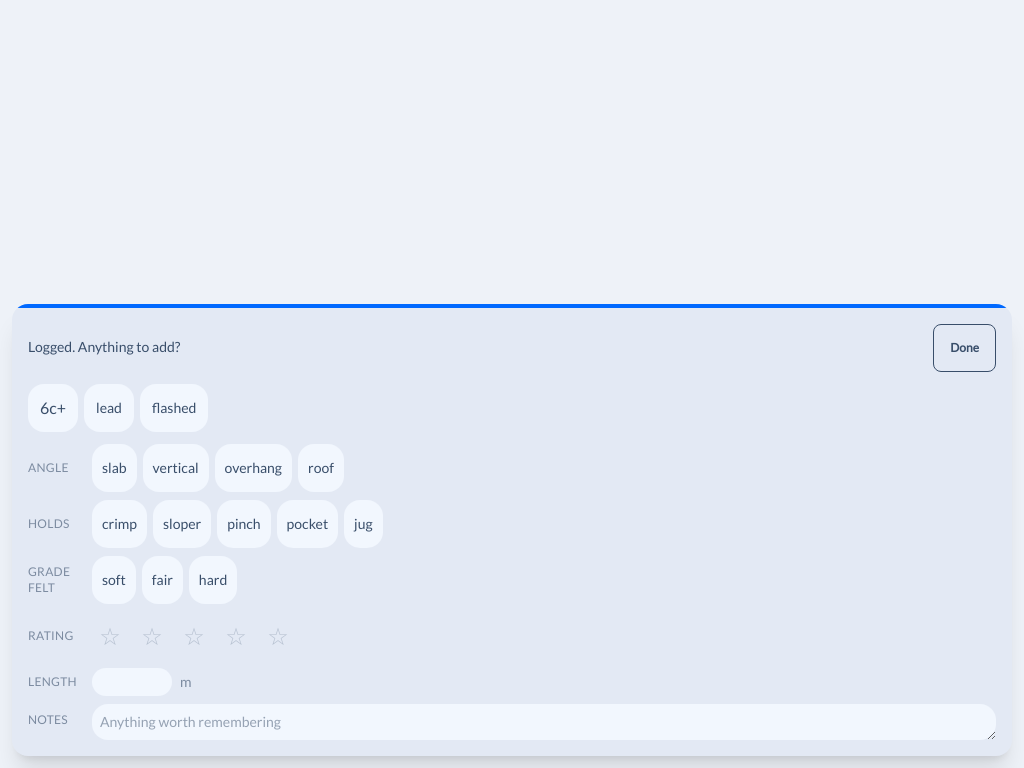
Test: correcting what was recorded › does not close itself under a correction it followed a write with
Expected: the element with test id "sheet-countdown" is shown, [12,304,1012,308]
Press the mouse on the button named "Grade, 6c+": [53, 408] box [28,384,78,432]
Wait 50000 ms
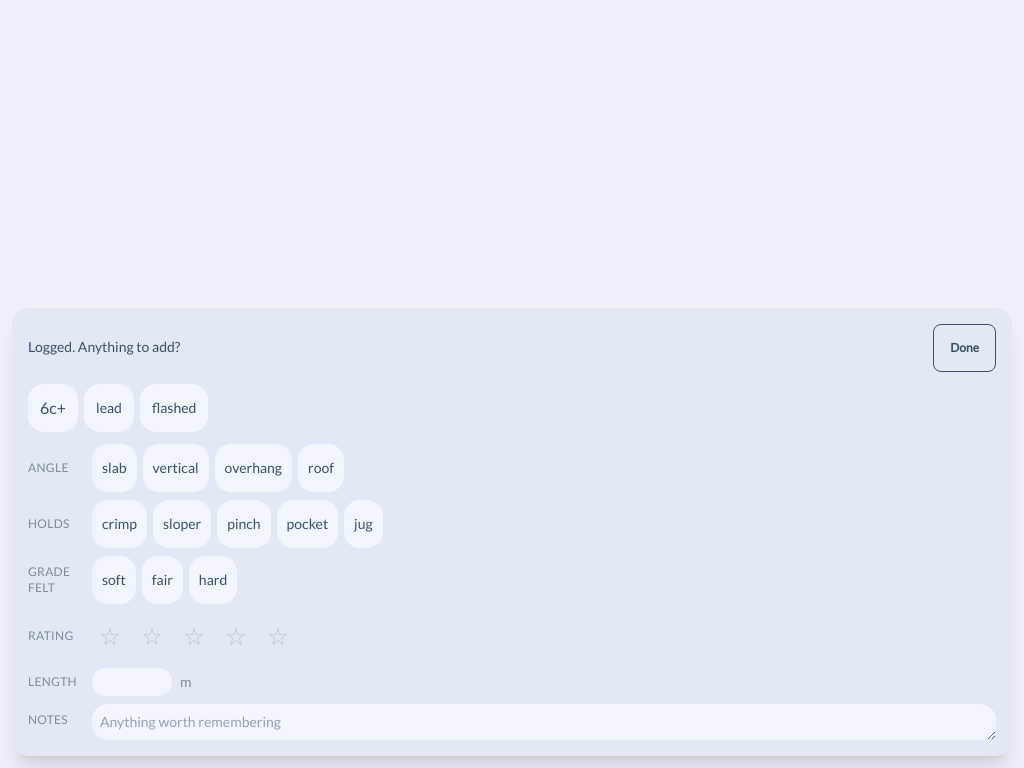
Now the element with test id "sheet-countdown" is gone
